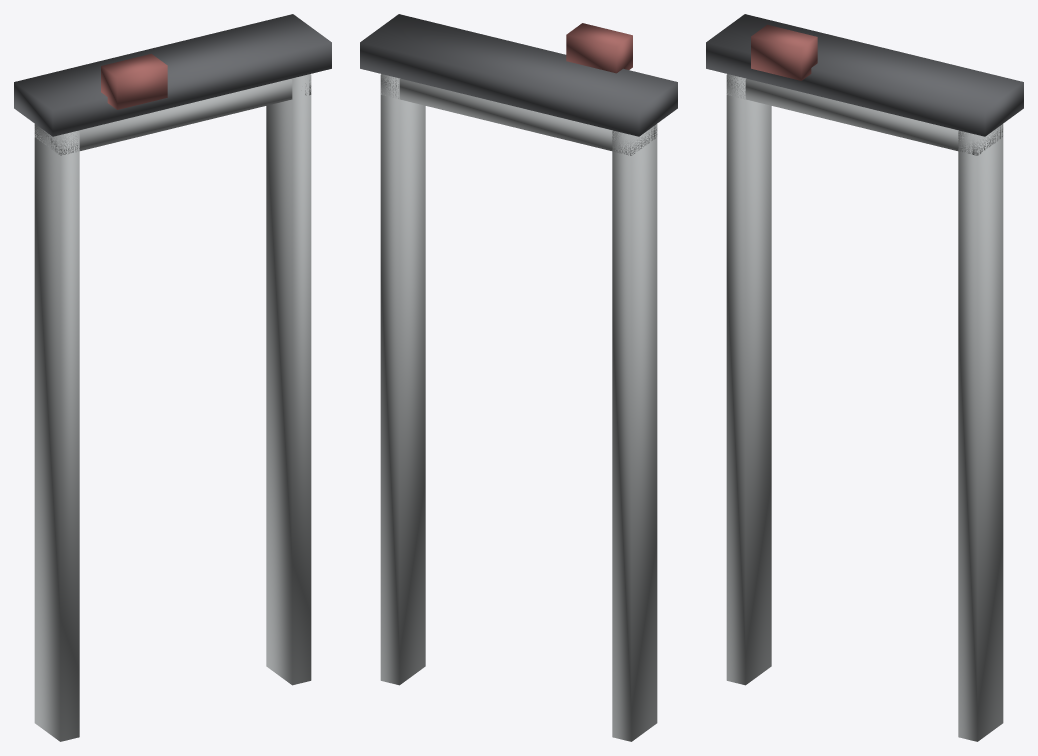
The model's file is doorway_fire_rated_w76_h200_d16.glb.
The picture shows the model from 3 angles, left to right: view 1: azimuth 30°, elevation 25°; view 2: azimuth 150°, elevation 25°; view 3: azimuth 330°, elevation 25°; orthographic projection.
Visible parts, largest first — view 1: world; view 2: world; view 3: world.
Part boxes in pixels (left/top/right/bottom): world: left=14, top=14, right=331, bottom=741; world: left=360, top=14, right=677, bottom=741; world: left=706, top=14, right=1023, bottom=741.
Size of the model in its own units: 0.9968 by 2.27 by 0.3.
